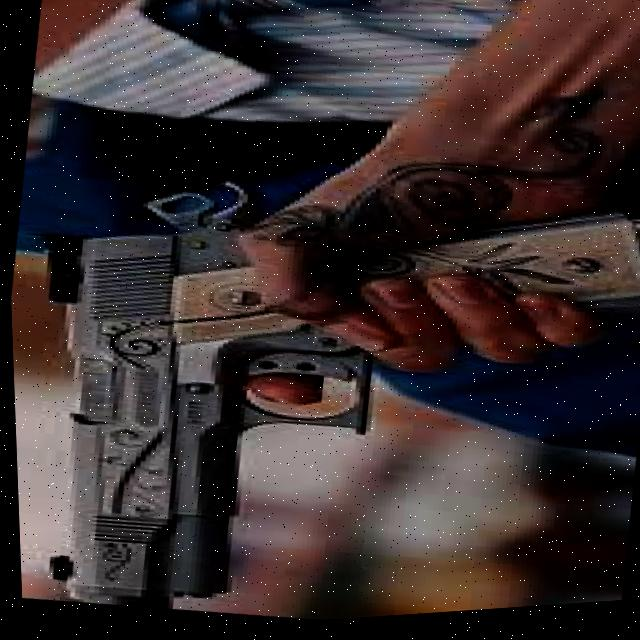pistol: (5, 149, 401, 640)
